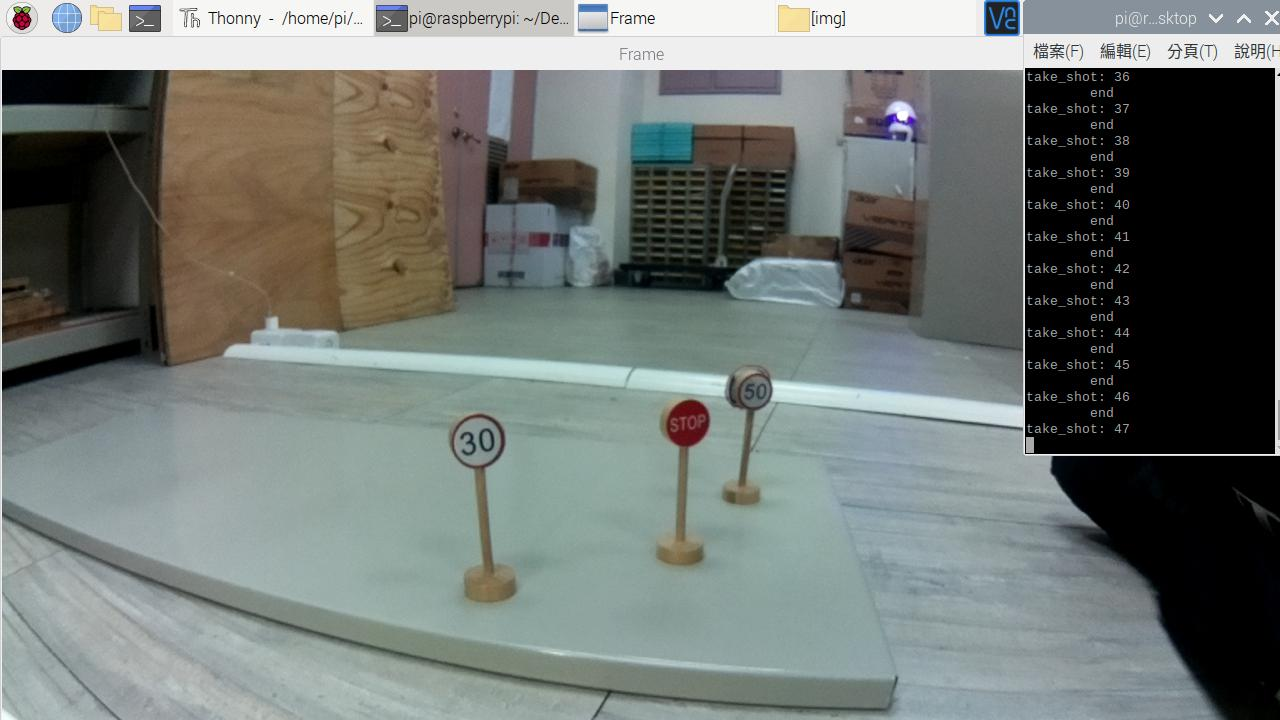Speed30: (450, 413, 507, 464)
Speed50: (736, 373, 779, 413)
Stop: (661, 403, 714, 451)
